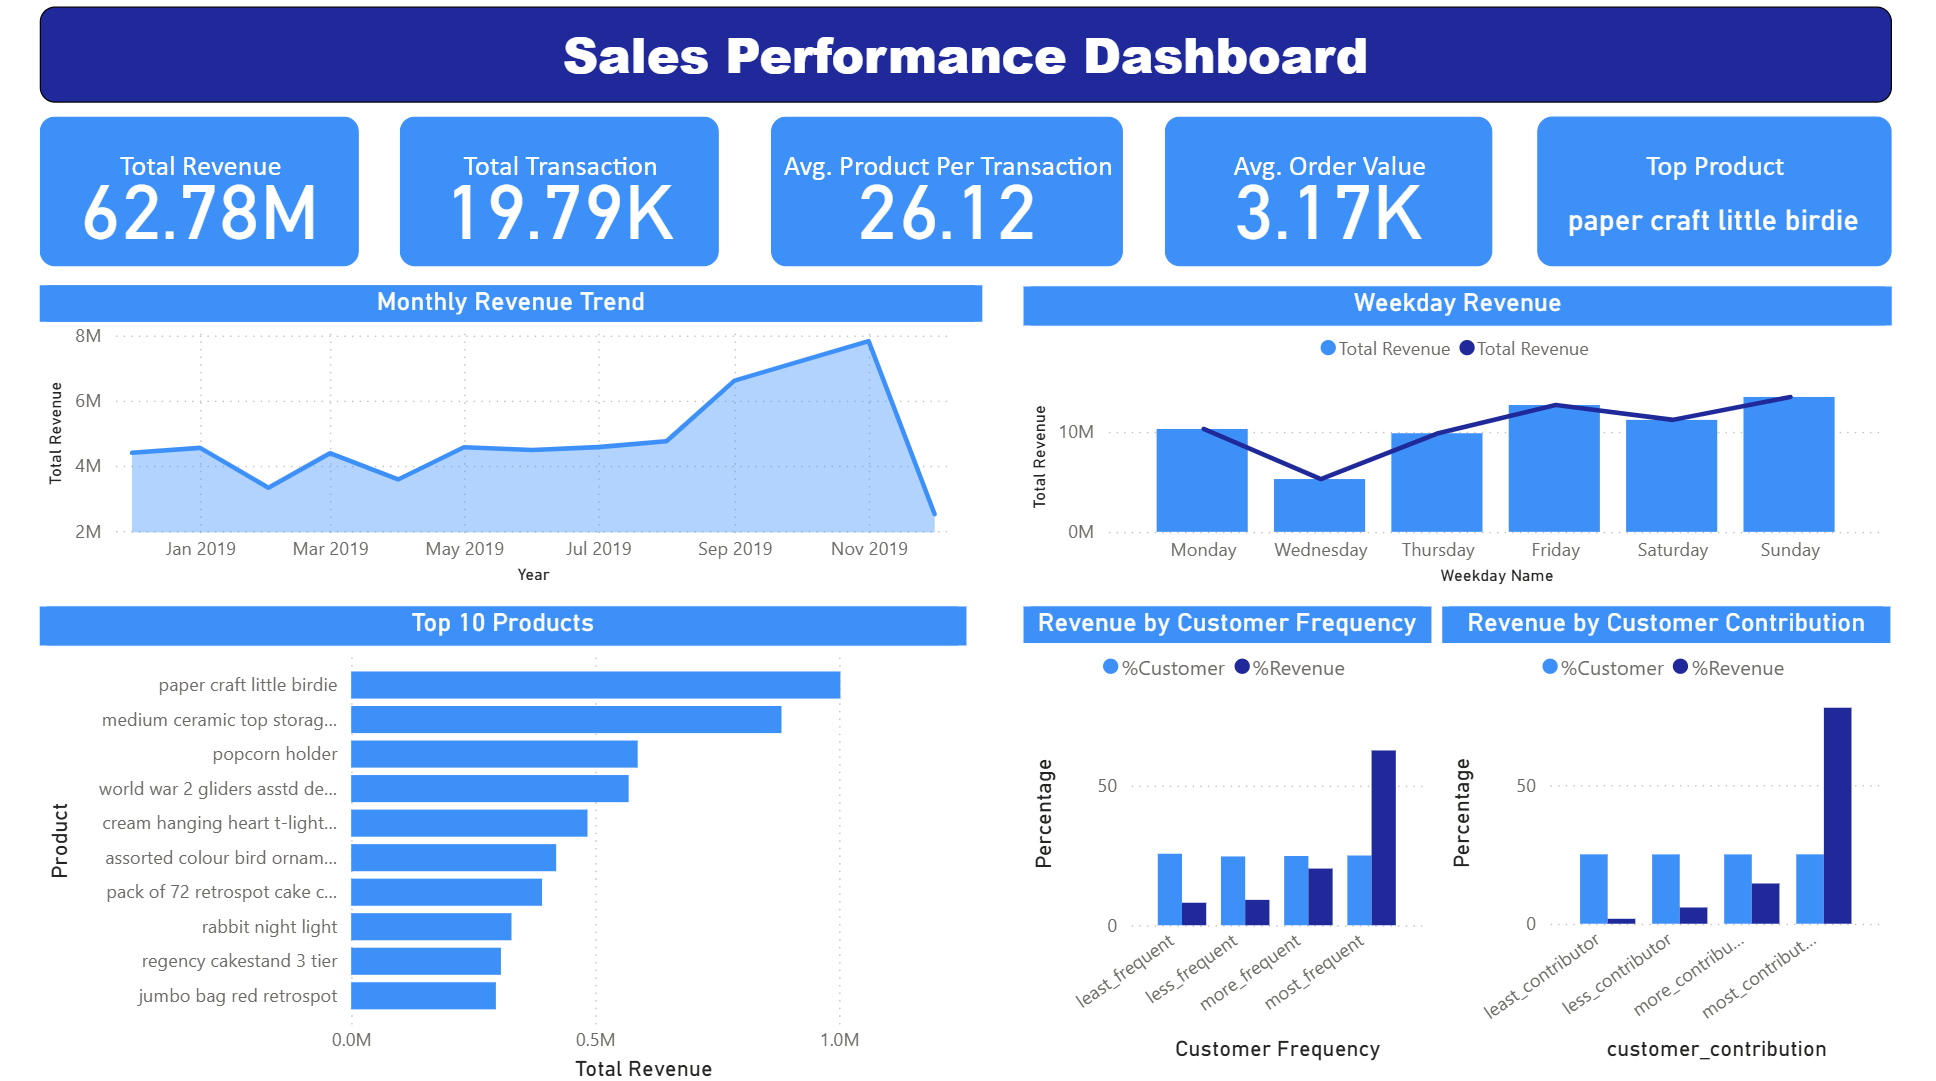

The page's visual inventory and layout, read from the dashboard file:
{"tool":"powerbi","page":{"name":"Page 1","canvas":[1280,720],"ordinal":0},"visuals":[{"type":"kpi","title":"Total Revenue","fields":{"Indicator":["Sum(public view_total_revenue.total_revenue)"],"TrendLine":["public view_total_revenue.total_revenue"]},"box":[32.1,80.3,209.9,98.5],"z":0},{"type":"kpi","title":"Total Transaction","fields":{"Indicator":["Sum(public view_total_transaction.total_transaction)"],"TrendLine":["public view_total_transaction.total_transaction"]},"box":[268.9,80.3,209.9,98.5],"z":1000},{"type":"kpi","title":"Avg. Product Per Transaction","fields":{"Indicator":["Sum(public view_avg_product_per_transaction.avg_product_per_transaction)"],"TrendLine":["public view_avg_product_per_transaction.avg_product_per_transaction"]},"box":[512,80.3,231.4,98.5],"z":2000},{"type":"kpi","title":"Avg. Order Value","fields":{"Indicator":["Sum(public view_total_order_value.total_order_value)"],"TrendLine":["public view_total_order_value.total_order_value"]},"box":[771.2,80.3,215.3,98.5],"z":3000},{"type":"card","title":"Top Product","fields":{"Values":["Min(public view_top_product.product_name)"]},"box":[1015.4,80.3,232.4,98.5],"z":4000},{"type":"barChart","title":"Top 10 Products","fields":{"Category":["public view_top_10_products.product_name"],"Y":["Sum(public view_top_10_products.total_revenue_per_product)"]},"box":[32.1,402.7,608.4,317.1],"z":5000},{"type":"areaChart","title":"Monthly Revenue Trend","fields":{"Category":["public view_monthly_revenue.date.Variation.Date Hierarchy.Year","public view_monthly_revenue.date.Variation.Date Hierarchy.Quarter","public view_monthly_revenue.date.Variation.Date Hierarchy.Month","public view_monthly_revenue.date.Variation.Date Hierarchy.Day"],"Y":["Sum(public view_monthly_revenue.monthly_revenue)"]},"box":[32.1,191.7,619.1,201.4],"z":6000},{"type":"columnChart","title":"Weekday Sales","fields":{"Category":["public view_weekday_sales.weekday_name"],"Y":["Sum(public view_weekday_sales.total_revenue)"]},"box":[686.6,191.7,562.3,201.4],"z":7000},{"type":"clusteredColumnChart","title":"Revenue by Customer Frequency","fields":{"Category":["public view_customer_vs_revenue_by_frequency.customer_frequency"],"Y":["Sum(public view_customer_vs_revenue_by_frequency.perc_customer_per_segment)","Sum(public view_customer_vs_revenue_by_frequency.perc_revenue_per_segment)"]},"box":[678,402.7,267.8,303.1],"z":8000},{"type":"textbox","box":[32.1,8.6,1216.8,63.2],"z":9000},{"type":"clusteredColumnChart","title":"Revenue by Customer Contribution","fields":{"Y":["Sum(public view_customer_vs_revenue_by_contribution.perc_customer_per_segment)","Sum(public view_customer_vs_revenue_by_contribution.perc_revenue_per_segment)"],"Category":["public view_customer_vs_revenue_by_contribution.customer_contribution"]},"box":[953.3,402.7,294.6,303.1],"z":9001}]}

Visuals, with their boxes in screenshot pixels (x1, y1, x2, y2), scaled from the page's 1280x720 canvas onto the 1936x1081 screenshot:
"Total Revenue" kpi: 49, 121, 366, 268
"Total Transaction" kpi: 407, 121, 724, 268
"Avg. Product Per Transaction" kpi: 774, 121, 1124, 268
"Avg. Order Value" kpi: 1166, 121, 1492, 268
"Top Product" card: 1536, 121, 1887, 268
"Top 10 Products" barChart: 49, 605, 969, 1080
"Monthly Revenue Trend" areaChart: 49, 288, 985, 590
"Weekday Sales" columnChart: 1038, 288, 1889, 590
"Revenue by Customer Frequency" clusteredColumnChart: 1025, 605, 1431, 1060
textbox: 49, 13, 1889, 108
"Revenue by Customer Contribution" clusteredColumnChart: 1442, 605, 1887, 1060
